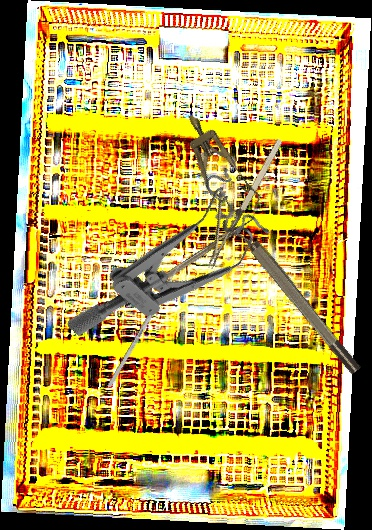Chopper: (119, 207, 261, 307)
Fixation Ring: (219, 207, 364, 383)
Needle Holder: (181, 126, 288, 270)
Pusher: (106, 250, 190, 389)
Speculum: (65, 153, 284, 388), (171, 104, 265, 223)
